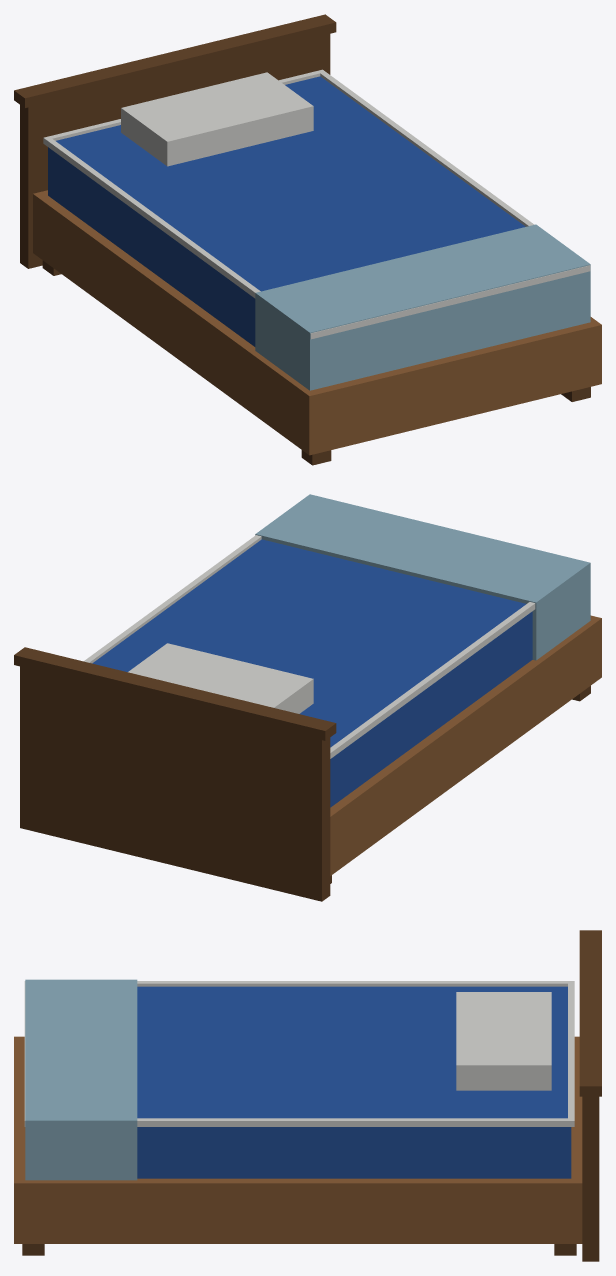
File: prop_foam-mattress.2146e755ed9e.glb
3 renders of one model, top to bottom at view 1: azimuth 30°, elevation 25°; view 2: azimuth 150°, elevation 25°; view 3: azimuth 270°, elevation 25°, orthographic. The views are drawn at different scales.
Visible parts, largest first — view 1: body; view 2: body; view 3: body.
Boxes of the visible parts, x1,y1,x2,y2 form: body: [14, 14, 601, 465]; body: [14, 494, 601, 901]; body: [14, 930, 601, 1261].
Size of the model in its own units: 1.32 by 0.7 by 2.1.
